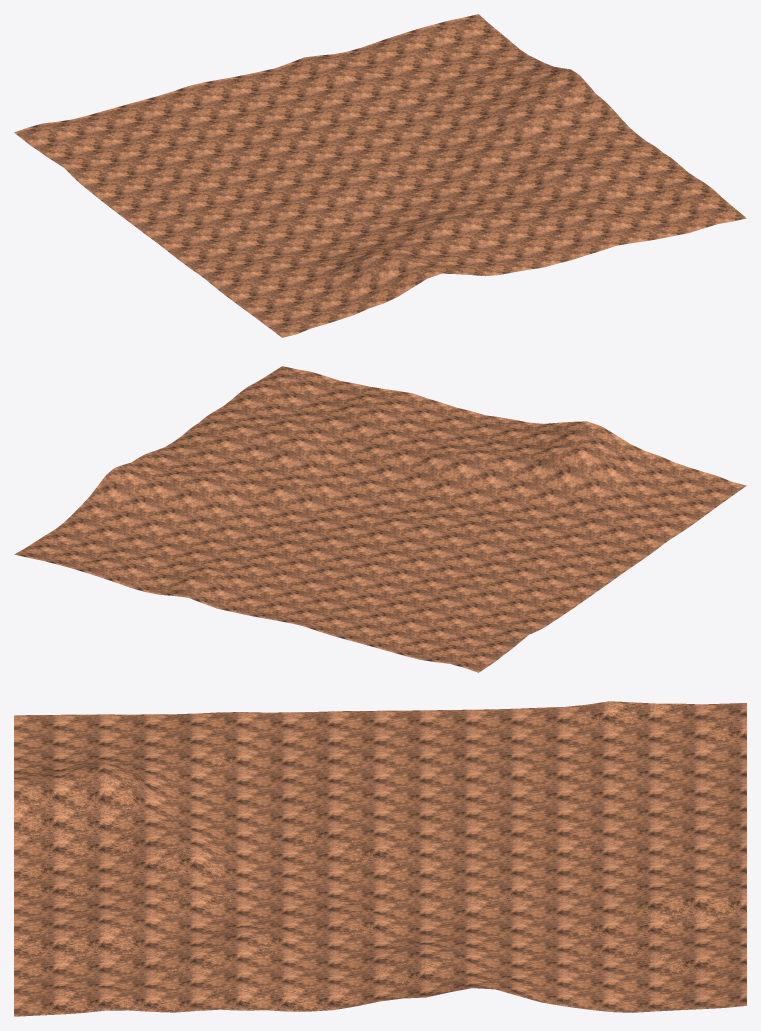
File: terrain_02_03.dae
The picture shows the model from 3 angles, top to bottom: view 1: azimuth 30°, elevation 25°; view 2: azimuth 150°, elevation 25°; view 3: azimuth 270°, elevation 25°; orthographic projection. The views are drawn at different scales.
Visible parts, largest first — view 1: terrain_02_03-node; view 2: terrain_02_03-node; view 3: terrain_02_03-node.
Part boxes in pixels (x1,y1,x2,y2): terrain_02_03-node: (14,14,746,337); terrain_02_03-node: (14,366,746,672); terrain_02_03-node: (14,701,746,1016).
Size of the model in its own units: 128 by 128 by 7.12.
Materials: 1 (1 with a texture image).
